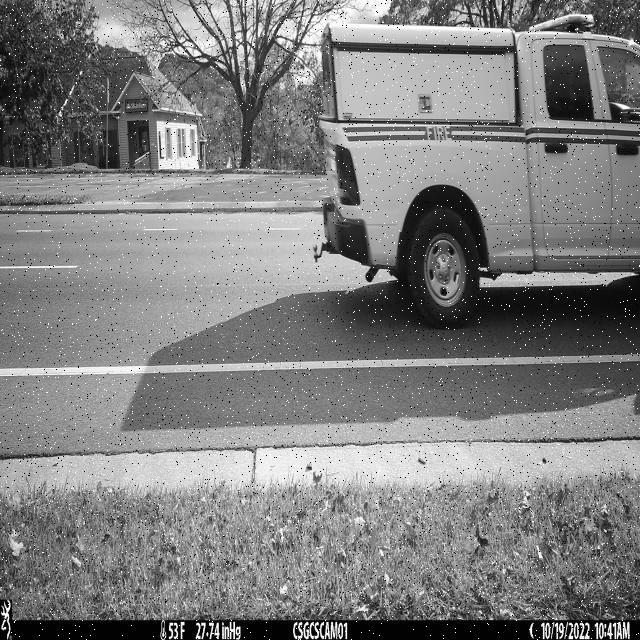Pickup: (311, 14, 640, 331)
